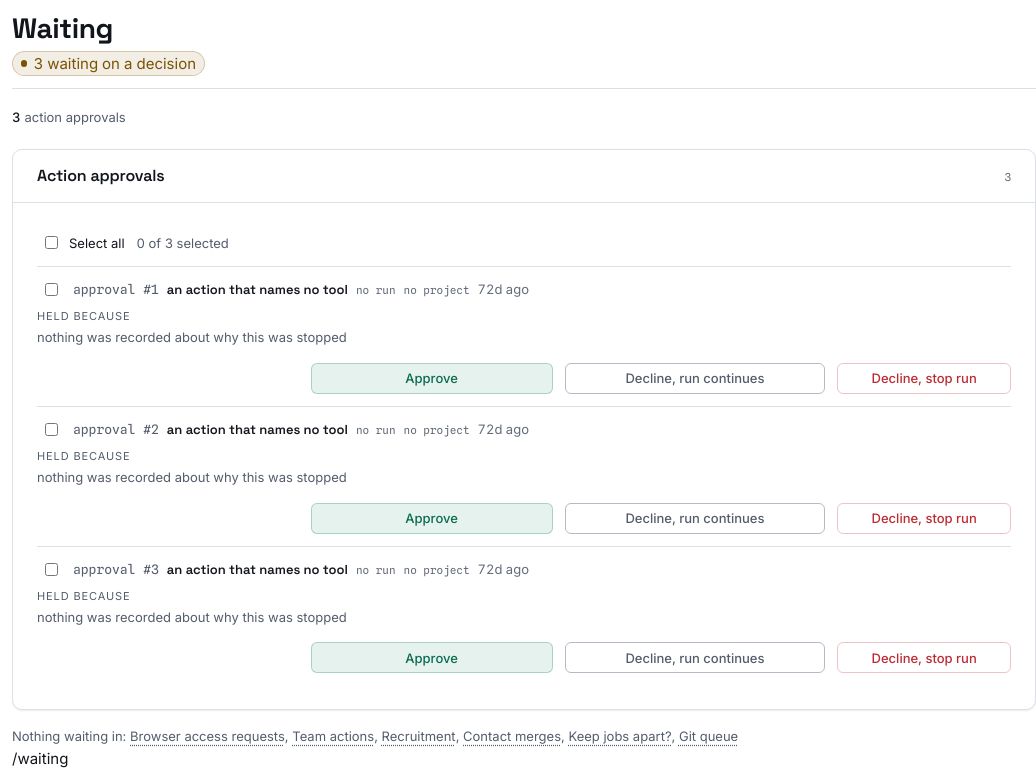
Scenario: Waiting - batch action approvals › Select all is partial while some rows are ticked, and unticking it clears the rest
Click the checkbox named "Select approval #2" at (51,429), box x1=44 y1=423 x2=58 y2=436
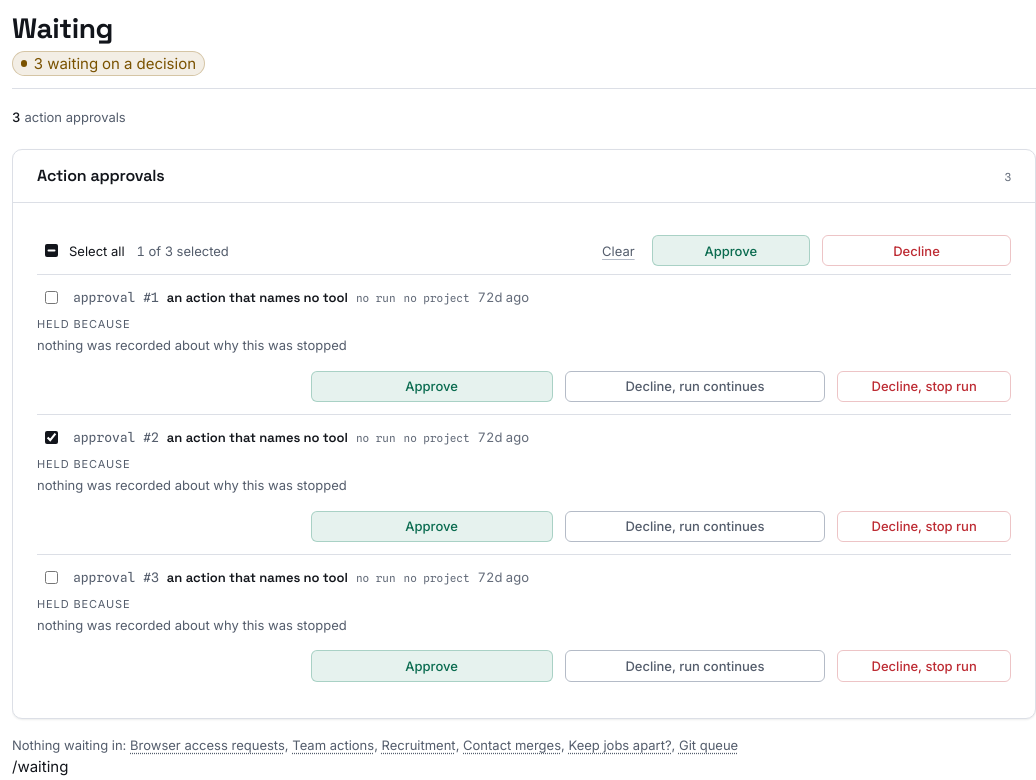
Click the checkbox labelled "Select all" at (51,251), box x1=44 y1=244 x2=58 y2=257
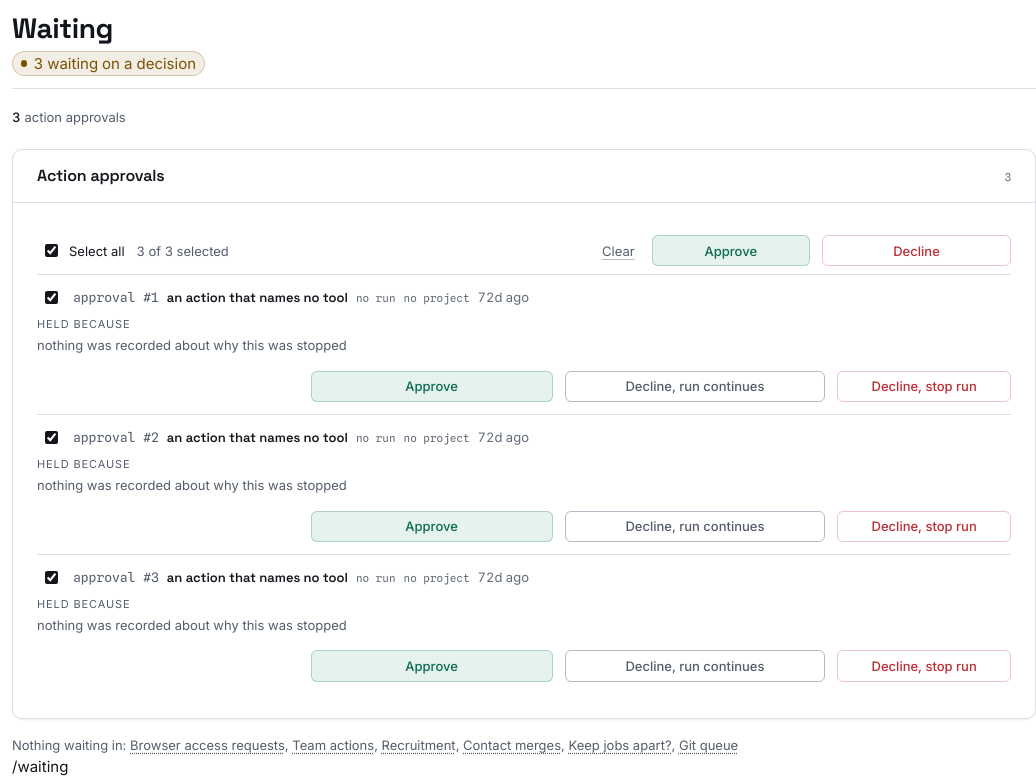
Check: the checkbox labelled "Select all" is checked
Check: the text "3 of 3 selected" is shown, box x1=137 y1=242 x2=229 y2=258
Click the checkbox labelled "Select all" at (51,251), box x1=44 y1=244 x2=58 y2=257
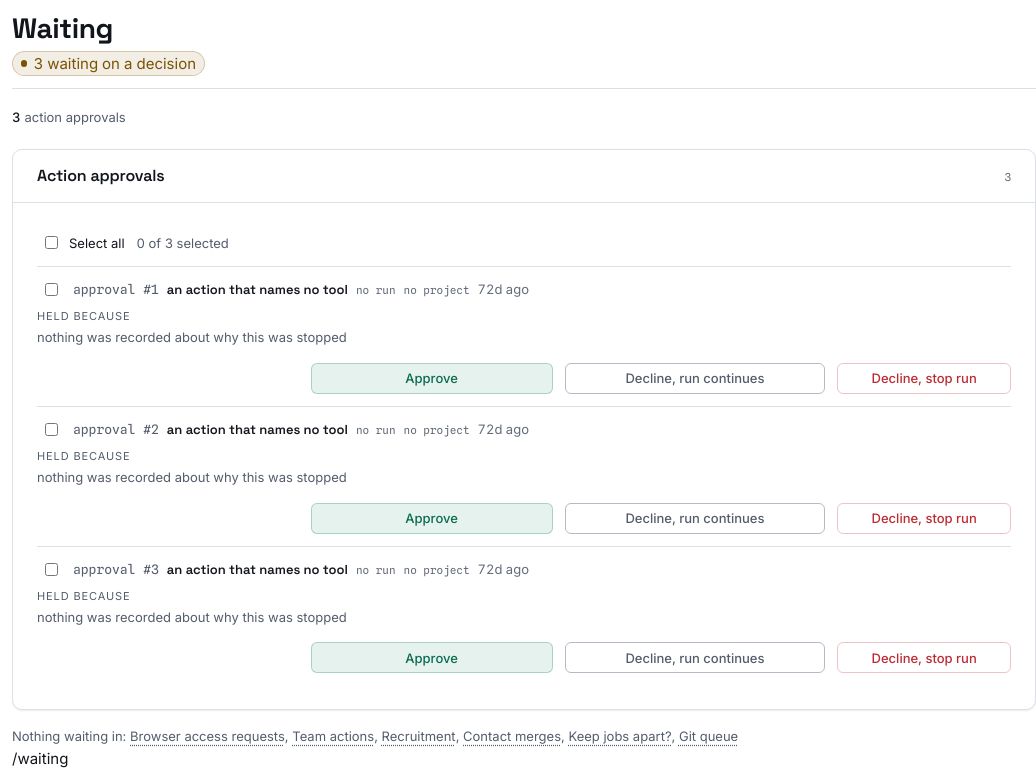
Check: the text "0 of 3 selected" is shown, box x1=137 y1=234 x2=229 y2=250
